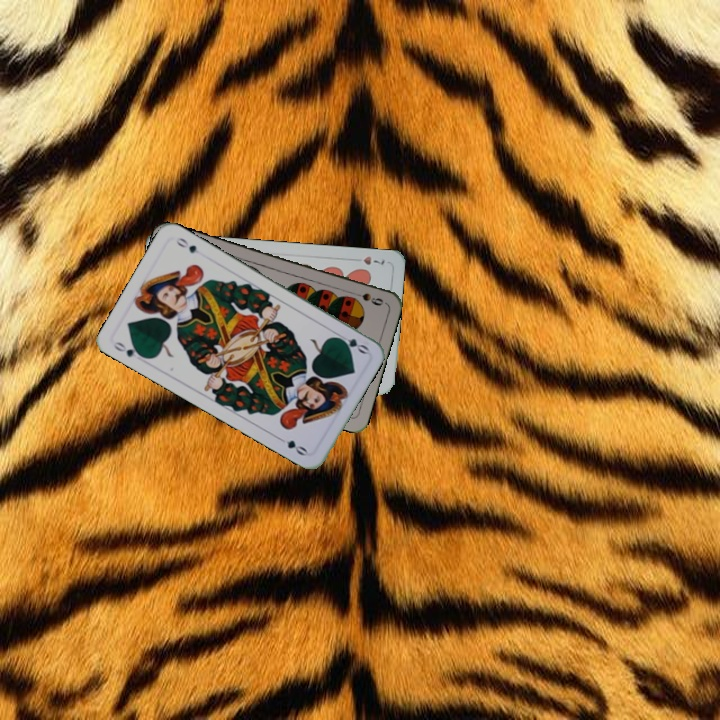GO: (331, 329, 371, 357), (110, 338, 148, 361)
H7: (348, 252, 387, 268)
S9: (347, 288, 386, 308)
